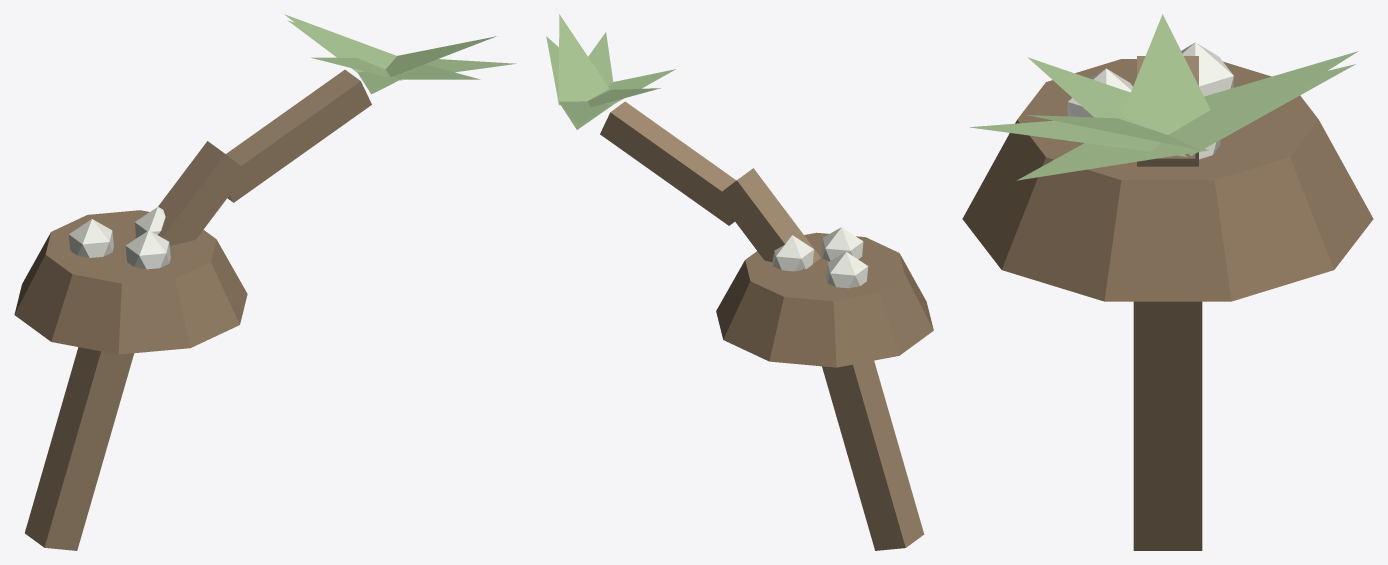
Rendered from golem_branch_nest_01.glb.
3 renders of one model, left to right at view 1: azimuth 30°, elevation 25°; view 2: azimuth 150°, elevation 25°; view 3: azimuth 270°, elevation 25°, orthographic. The views are drawn at different scales.
Parts seen in each view (by area): view 1: golem_branch_nest; view 2: golem_branch_nest; view 3: golem_branch_nest.
Part boxes in pixels (x1,y1,x2,y2): golem_branch_nest: (14, 14, 516, 550); golem_branch_nest: (546, 14, 933, 550); golem_branch_nest: (962, 14, 1373, 550).
Bounding box in the file's own units: 0.6403 × 0.6146 × 0.3.
